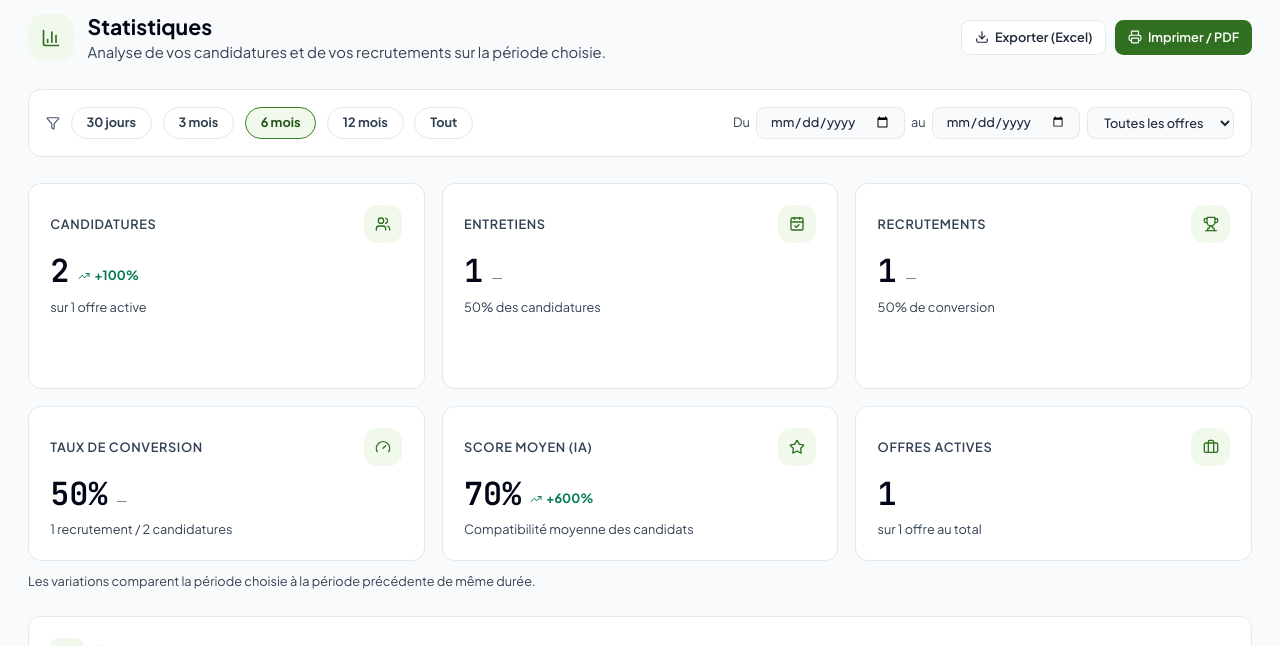
StatistiquesPage › « Tout » réintègre les candidatures anciennes
expect the text "Candidatures" is shown: met, box [50, 216, 156, 233]
What coordinates should you click on to do the following:
click the button "Tout"
I would click on:
 (444, 123)
Its box is [414, 107, 473, 139].
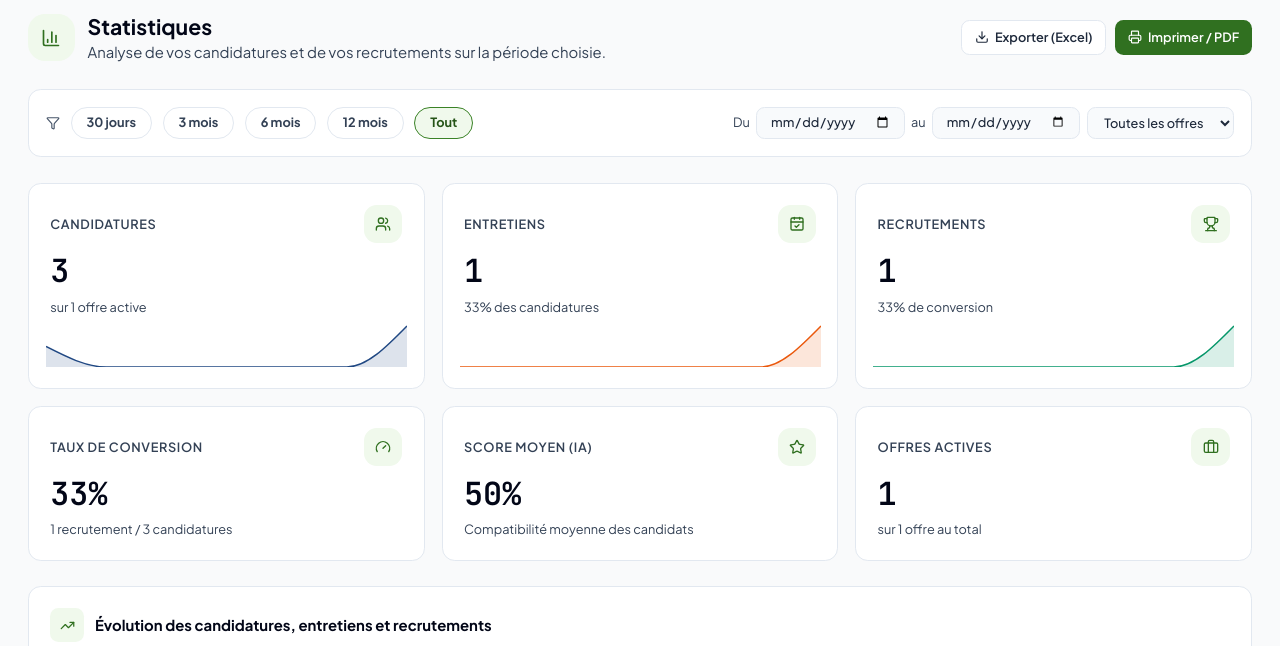
expect the text "1 recrutement / 3 candidatures" is shown: met, box [50, 522, 233, 538]
